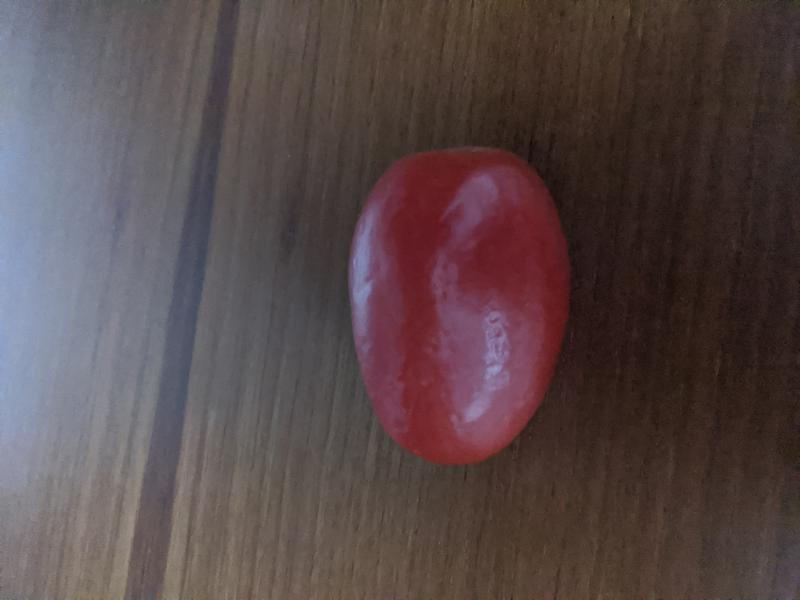tomato: (345, 146, 570, 467)
